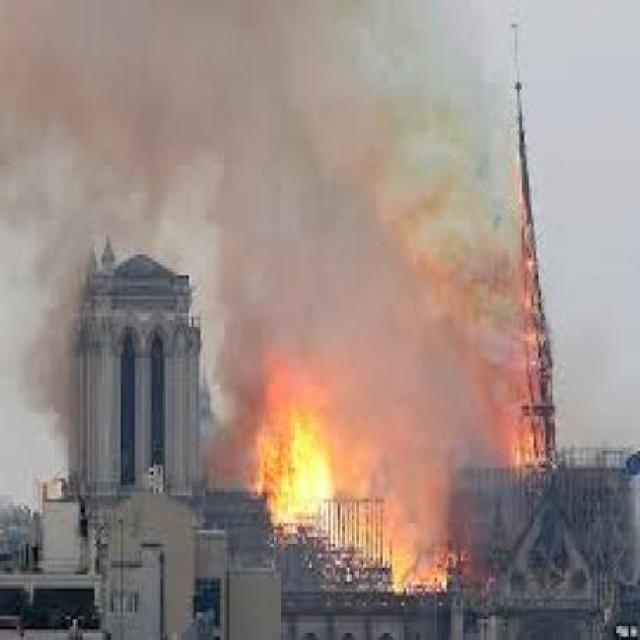Fire: (240, 404, 336, 534), (370, 534, 460, 614), (507, 382, 550, 472)
Smoke: (1, 0, 338, 235), (368, 92, 542, 345), (208, 244, 486, 398), (6, 244, 95, 500), (342, 382, 436, 512)
